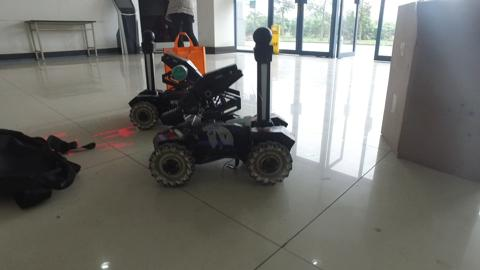chariot: (156, 28, 303, 186)
